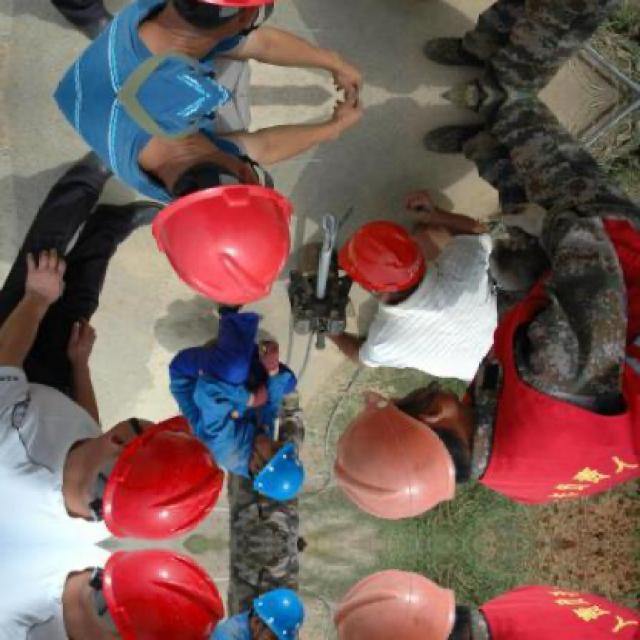con casco: (104, 144, 318, 318), (13, 392, 253, 533), (316, 409, 489, 539), (308, 213, 452, 333), (182, 410, 314, 510)
